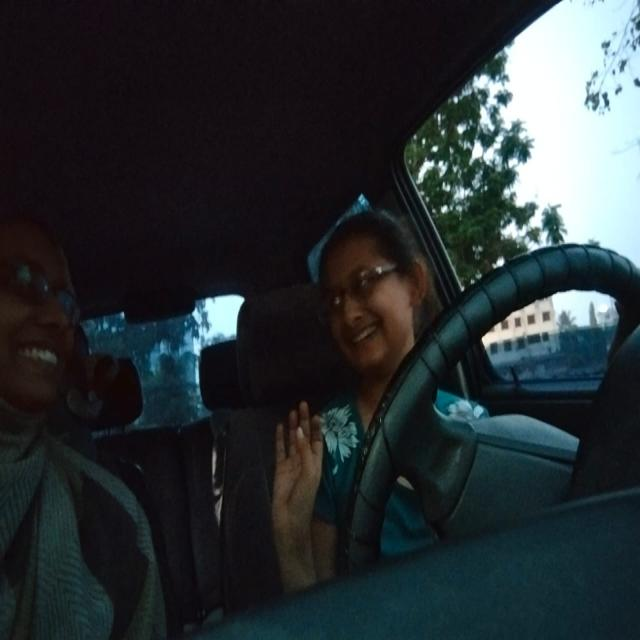LeftRight: (305, 206, 433, 399)
person: (0, 207, 92, 431)
talking: (14, 335, 65, 385), (341, 318, 389, 358)
